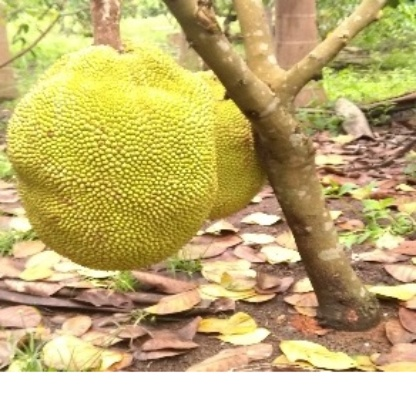mit: (5, 40, 262, 298)
